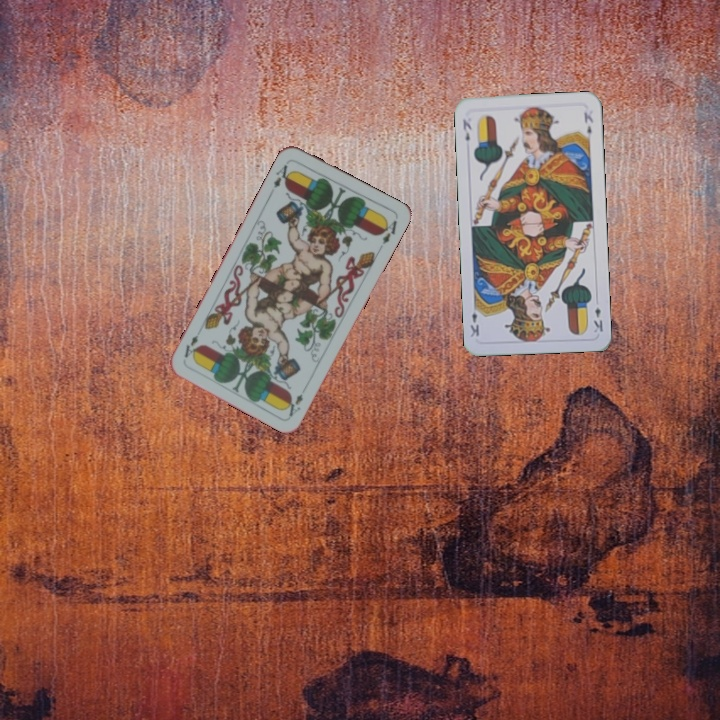EA: (269, 161, 295, 191), (283, 390, 305, 419)
EK: (589, 303, 605, 335), (459, 115, 474, 144)
